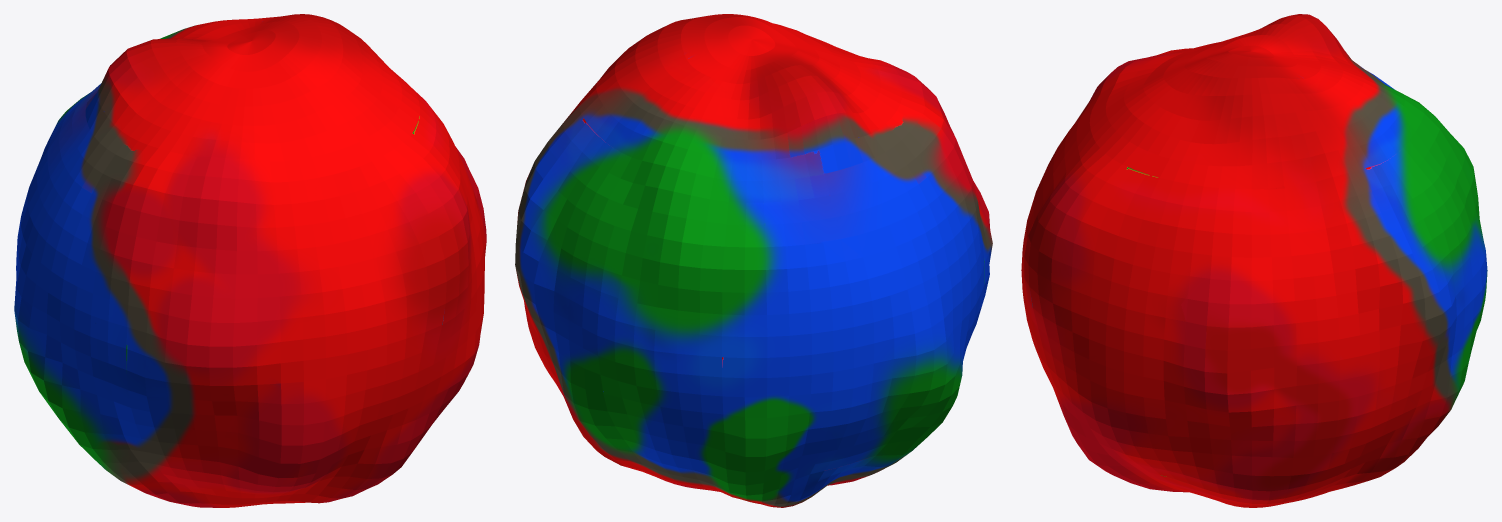
File: yinyang.fbx
3 views of the same model, side by side, from view 1: azimuth 30°, elevation 25°; view 2: azimuth 150°, elevation 25°; view 3: azimuth 270°, elevation 25° (orthographic).
Visible parts, largest first — view 1: Sphere; view 2: Sphere; view 3: Sphere.
Boxes of the visible parts, x1,y1,x2,y2 form: Sphere: [14, 14, 486, 507]; Sphere: [515, 14, 992, 507]; Sphere: [1021, 14, 1487, 507].
Size of the model in its own units: 2.1 by 2.12 by 2.02.
Materials: 1 (1 with a texture image).
